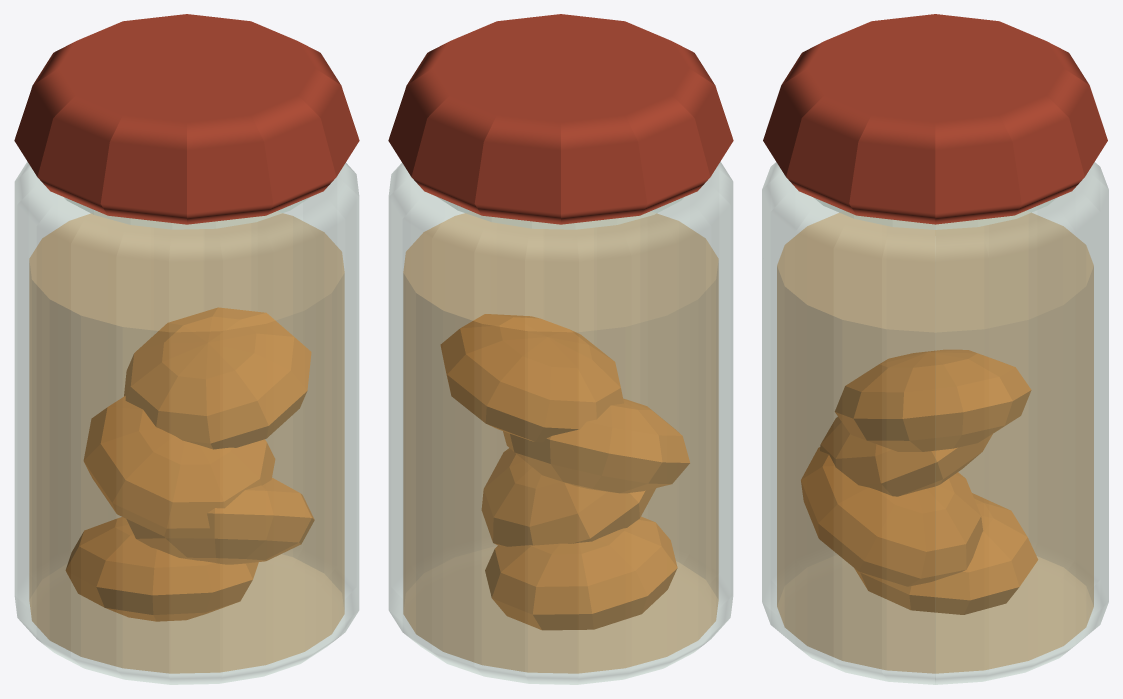
Rendered from FindPeaches.glb.
3 renders of one model, left to right at view 1: azimuth 30°, elevation 25°; view 2: azimuth 150°, elevation 25°; view 3: azimuth 270°, elevation 25°, orthographic.
Visible parts, largest first — view 1: Jar_5.001; view 2: Jar_5.001; view 3: Jar_5.001.
Boxes of the visible parts, bbox=[...] form: Jar_5.001: bbox=[14, 14, 359, 684]; Jar_5.001: bbox=[388, 14, 733, 684]; Jar_5.001: bbox=[762, 14, 1108, 684].
Size of the model in its own units: 0.07 by 0.123 by 0.07.
